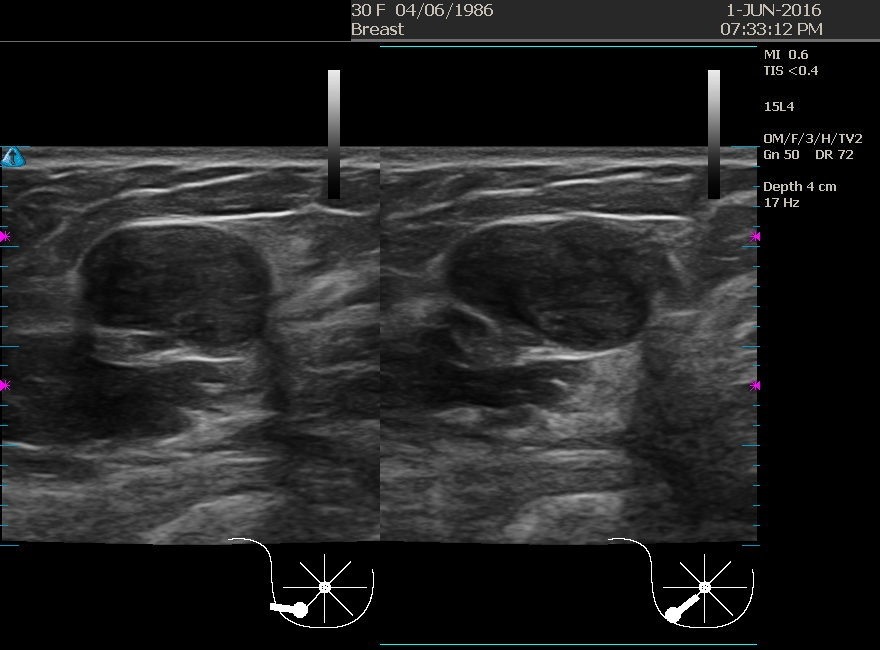BIRADS_3: (75, 187, 275, 387), (445, 204, 645, 404)
